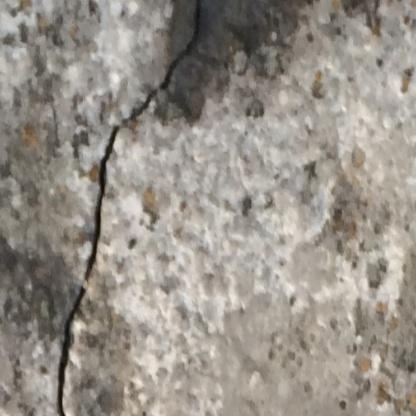Cracks: (125, 0, 208, 123), (84, 125, 123, 284), (56, 285, 90, 416)
